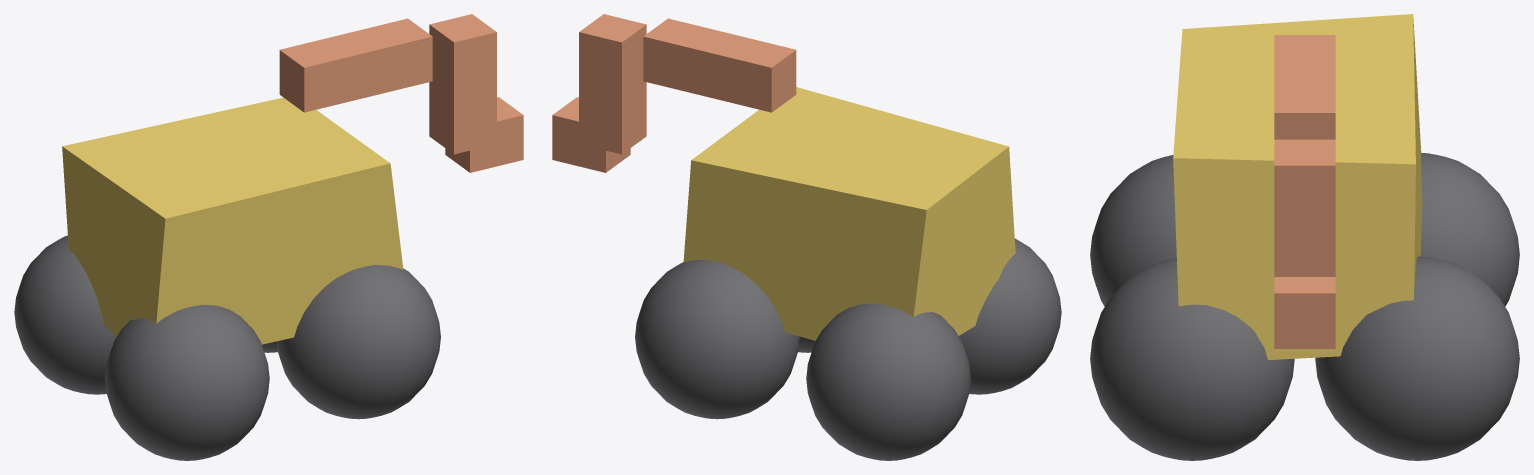
Rendered from clay_excavator.glb.
3 views of the same model, side by side, from view 1: azimuth 30°, elevation 25°; view 2: azimuth 150°, elevation 25°; view 3: azimuth 270°, elevation 25° (orthographic). The views are drawn at different scales.
Visible parts, largest first — view 1: bucket; view 2: bucket; view 3: bucket.
Part boxes in pixels (x1,y1,x2,y2): bucket: (14,14,523,460); bucket: (552,14,1061,460); bucket: (1090,14,1519,460).
Bounding box in the file's own units: 1.23 × 0.87 × 0.84.
